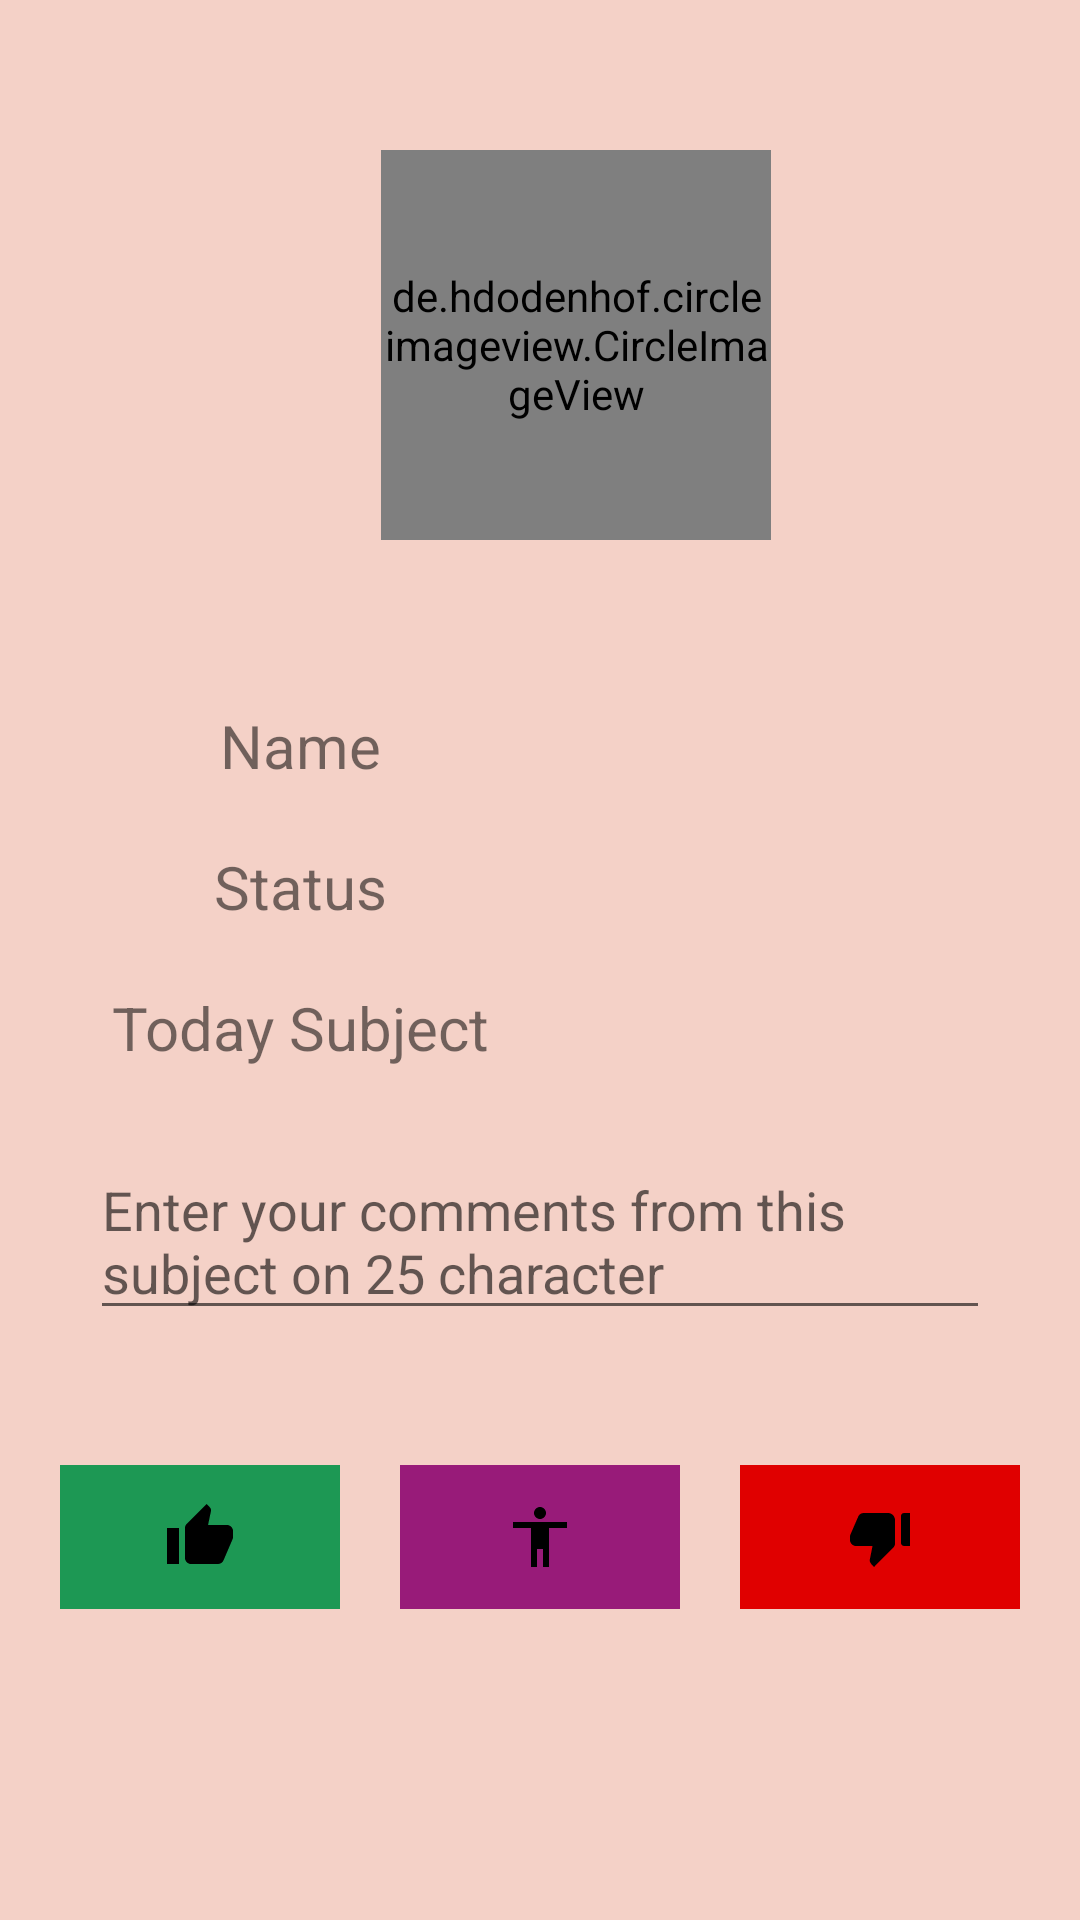

Icons on this 1080 x 1920 Android screen, each with its box as region(x1, y1, x2, y2):
neutral: region(400, 1465, 680, 1609)
thumb up: region(60, 1465, 340, 1609)
